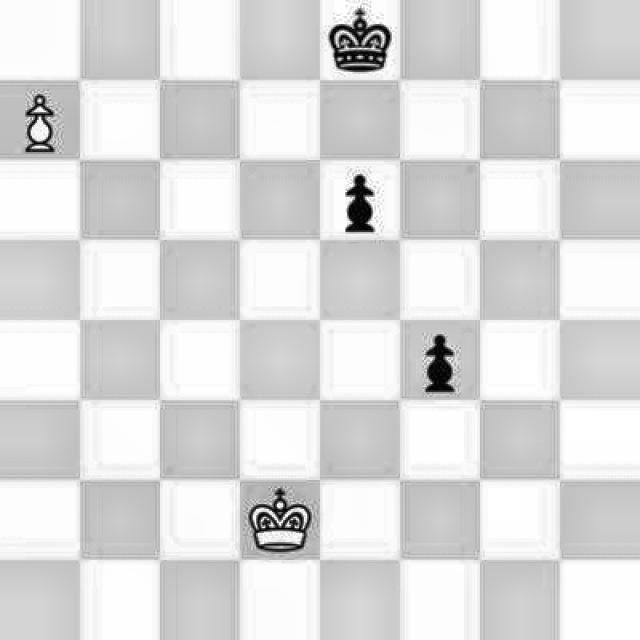black king: (322, 0, 399, 84)
black pawn: (398, 322, 478, 398), (320, 160, 396, 238)
white king: (244, 482, 314, 548)
white pawn: (0, 75, 82, 157)
